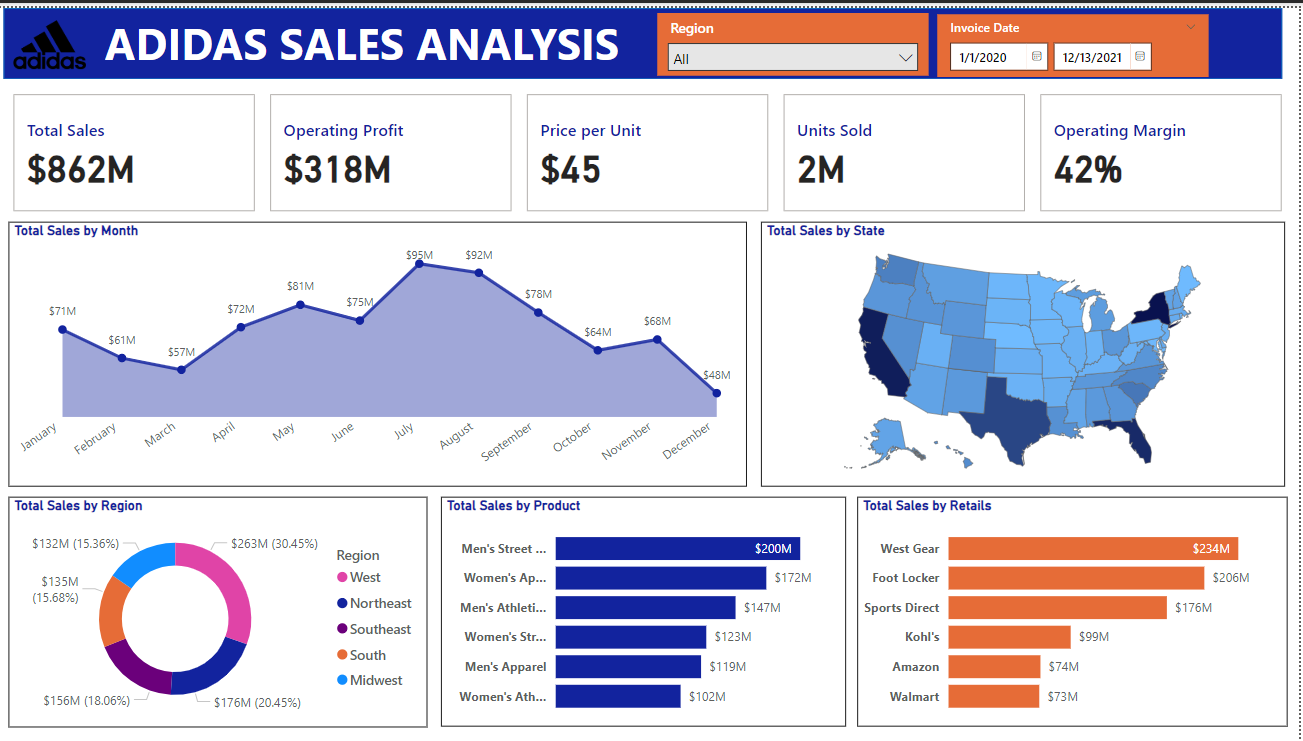

The page's visual inventory and layout, read from the dashboard file:
{"tool":"powerbi","page":{"name":"Page 1","canvas":[1280,720],"ordinal":0},"visuals":[{"type":"shape","box":[7.4,0,1255.2,69.9],"z":0},{"type":"textbox","box":[101.8,0,649.1,69.9],"z":1000},{"type":"cardVisual","fields":{"Data":["Sum(Data Sales Adidas.Total Sales)","Sum(Data Sales Adidas.Operating Profit)","Avg(Data Sales Adidas.Price per Unit)","Sum(Data Sales Adidas.Units Sold)","Avg(Data Sales Adidas.Operating Margin)"]},"box":[12.3,79.8,1255.2,125.2],"z":2000},{"type":"areaChart","title":"Total Sales by Month","fields":{"Category":["Data Sales Adidas.Invoice Date.Variation.Date Hierarchy.Month"],"Y":["Sum(Data Sales Adidas.Total Sales)"]},"box":[12.3,209.8,725,260],"z":3000},{"type":"shapeMap","title":"Total Sales by State","fields":{"Category":["Data Sales Adidas.State"],"Value":["Sum(Data Sales Adidas.Total Sales)"]},"box":[750.9,209.8,514.1,260.1],"z":4000},{"type":"donutChart","title":"Total Sales by Region","fields":{"Category":["Data Sales Adidas.Region"],"Y":["Sum(Data Sales Adidas.Total Sales)"]},"box":[12.3,479.8,411,226],"z":5000},{"type":"barChart","title":"Total Sales by Product","fields":{"Category":["Data Sales Adidas.Product"],"Y":["Sum(Data Sales Adidas.Total Sales)"]},"box":[436.8,479.8,397.5,225.8],"z":6000},{"type":"barChart","title":"Total Sales by Retails","fields":{"Y":["Sum(Data Sales Adidas.Total Sales)"],"Category":["Data Sales Adidas.Retailer"]},"box":[845.4,479.8,422.1,225.8],"z":7000},{"type":"slicer","fields":{"Values":["Data Sales Adidas.Region"]},"box":[649.1,4.9,266.3,61.4],"z":8000},{"type":"image","box":[12.3,0,81,72.4],"z":9000},{"type":"slicer","fields":{"Values":["Data Sales Adidas.Invoice Date"]},"box":[923.9,6.1,266.3,61.4],"z":10000}]}

Visuals, with their boxes in screenshot pixels (x1, y1, x2, y2), scaled from the page's 1280x720 canvas onto the 1303x741 screenshot:
shape: 8, 0, 1285, 72
textbox: 104, 0, 764, 72
cardVisual - Sum(Data Sales Adidas.Total Sales) x Sum(Data Sales Adidas.Operating Profit): 13, 82, 1290, 211
"Total Sales by Month" areaChart: 13, 216, 751, 484
"Total Sales by State" shapeMap: 764, 216, 1288, 484
"Total Sales by Region" donutChart: 13, 494, 431, 726
"Total Sales by Product" barChart: 445, 494, 849, 726
"Total Sales by Retails" barChart: 861, 494, 1290, 726
slicer - Data Sales Adidas.Region: 661, 5, 932, 68
image: 13, 0, 95, 75
slicer - Data Sales Adidas.Invoice Date: 941, 6, 1212, 69
